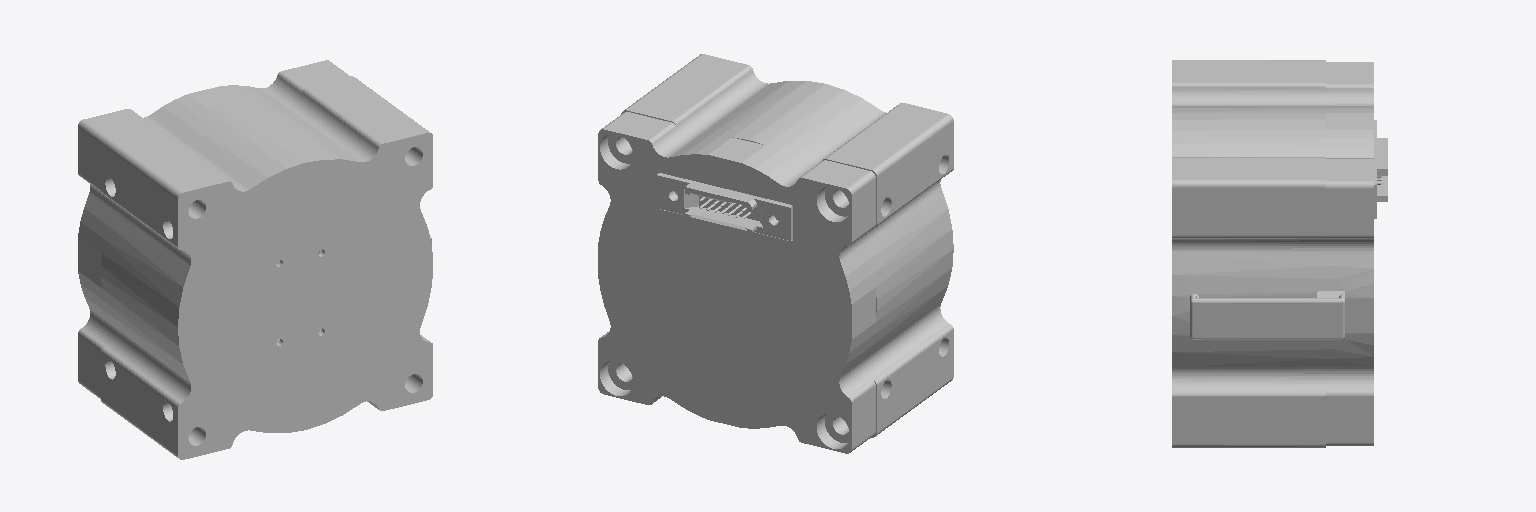
Rendered from Magnetometer.obj.
The picture shows the model from 3 angles: view 1: azimuth 30°, elevation 25°; view 2: azimuth 150°, elevation 25°; view 3: azimuth 270°, elevation 25°; orthographic projection.
Visible parts, largest first — view 1: Assembly87_Shrinkwrap_1/SOLID; view 2: Assembly87_Shrinkwrap_1/SOLID; view 3: Assembly87_Shrinkwrap_1/SOLID.
Boxes of the visible parts, <box> form: Assembly87_Shrinkwrap_1/SOLID: <box>78,60,432,459</box>; Assembly87_Shrinkwrap_1/SOLID: <box>598,54,953,453</box>; Assembly87_Shrinkwrap_1/SOLID: <box>1172,60,1387,447</box>.
Bounding box in the file's own units: 47.5 × 46 × 33.59.